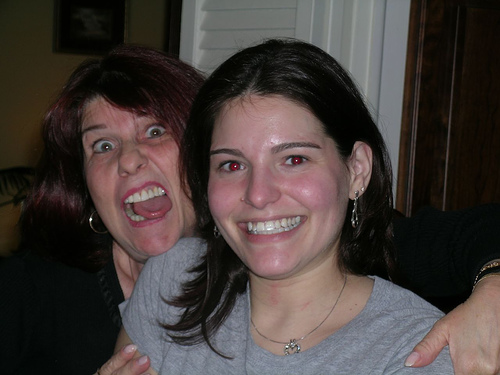without_mask: (196, 61, 396, 287), (57, 57, 214, 261)
